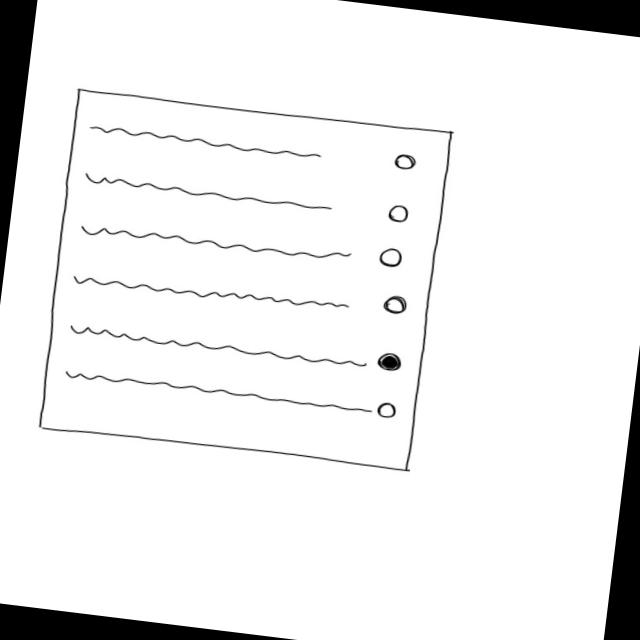container: (35, 82, 456, 476)
radio: (68, 254, 410, 327), (76, 208, 406, 275), (65, 312, 406, 376), (80, 162, 413, 225), (88, 114, 420, 176), (66, 360, 401, 420)
